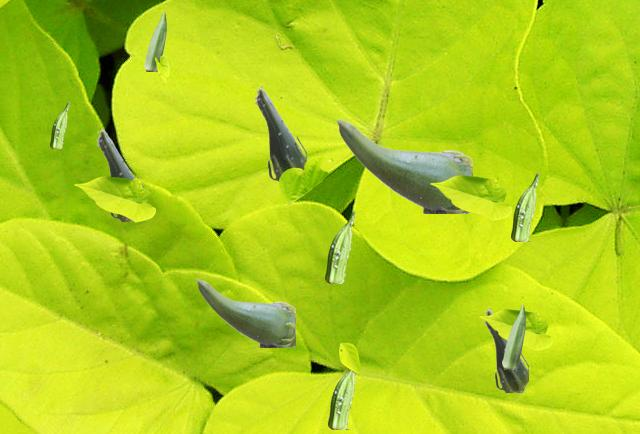okra: (336, 119, 471, 212), (196, 279, 294, 346), (254, 85, 305, 182), (96, 127, 145, 220), (483, 307, 527, 391), (325, 211, 354, 282), (511, 173, 538, 240), (328, 369, 355, 428), (502, 305, 524, 368), (144, 12, 165, 70), (50, 102, 68, 147)
